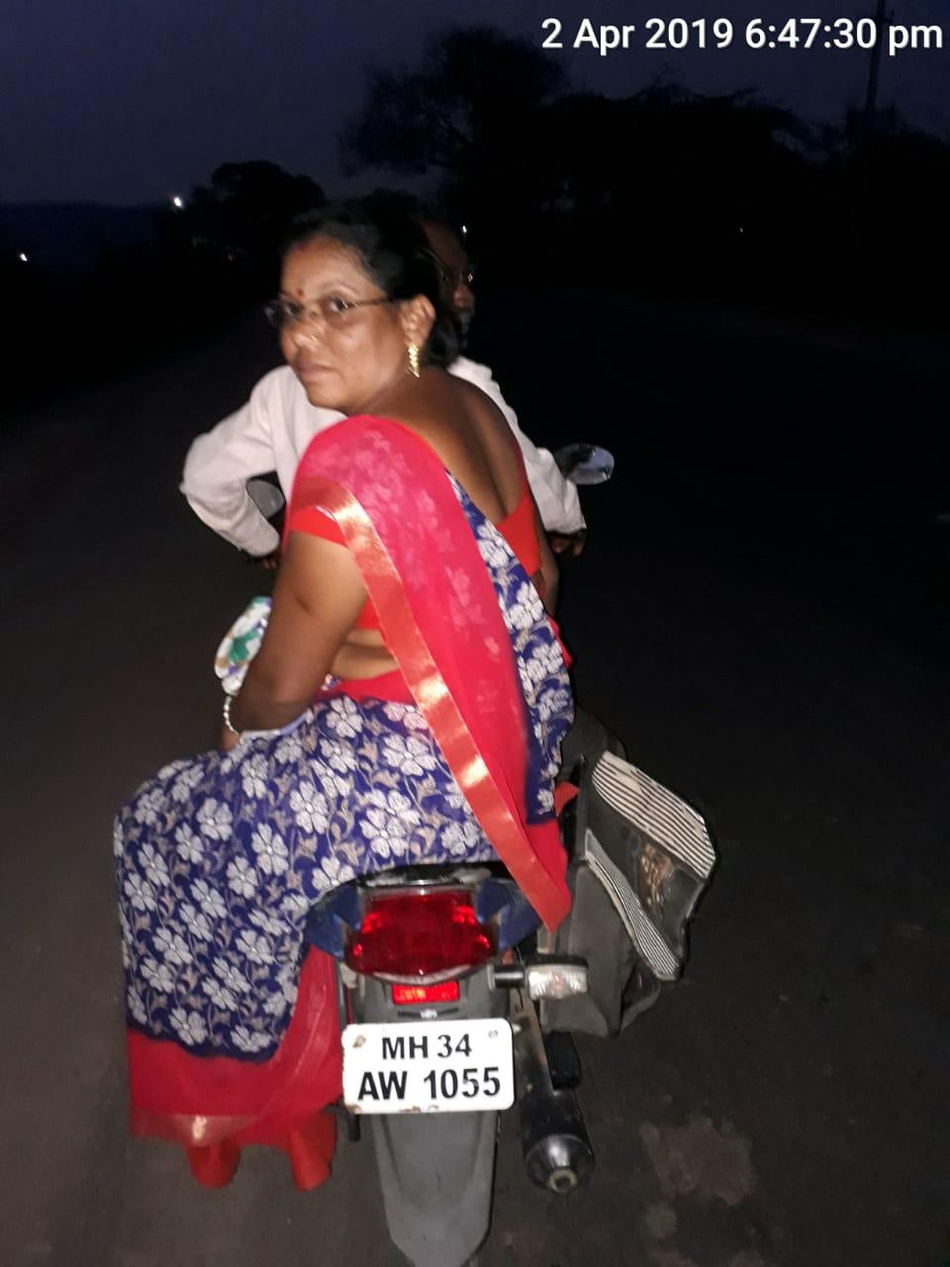plate: (316, 1013, 520, 1129)
